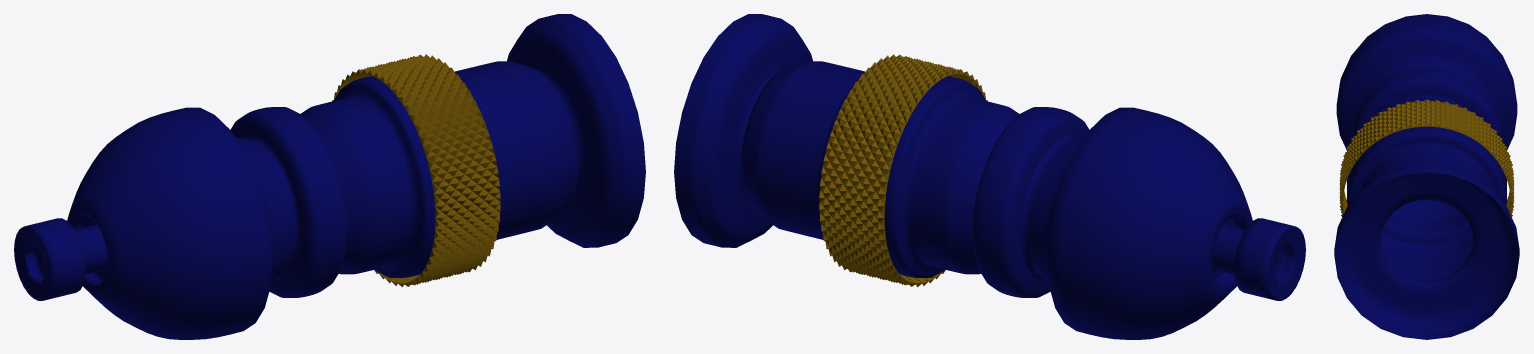
Rendered from stock_01.fbx.
The picture shows the model from 3 angles, left to right: view 1: azimuth 30°, elevation 25°; view 2: azimuth 150°, elevation 25°; view 3: azimuth 270°, elevation 25°; orthographic projection. The views are drawn at different scales.
Visible parts, largest first — view 1: Cylinder.016; view 2: Cylinder.016; view 3: Cylinder.016.
Boxes of the visible parts, box(x1,y1,x2,y2) form: Cylinder.016: box(14, 14, 645, 339); Cylinder.016: box(674, 14, 1305, 339); Cylinder.016: box(1334, 14, 1519, 339).
Size of the model in its own units: 34.82 by 12.87 by 12.89.
